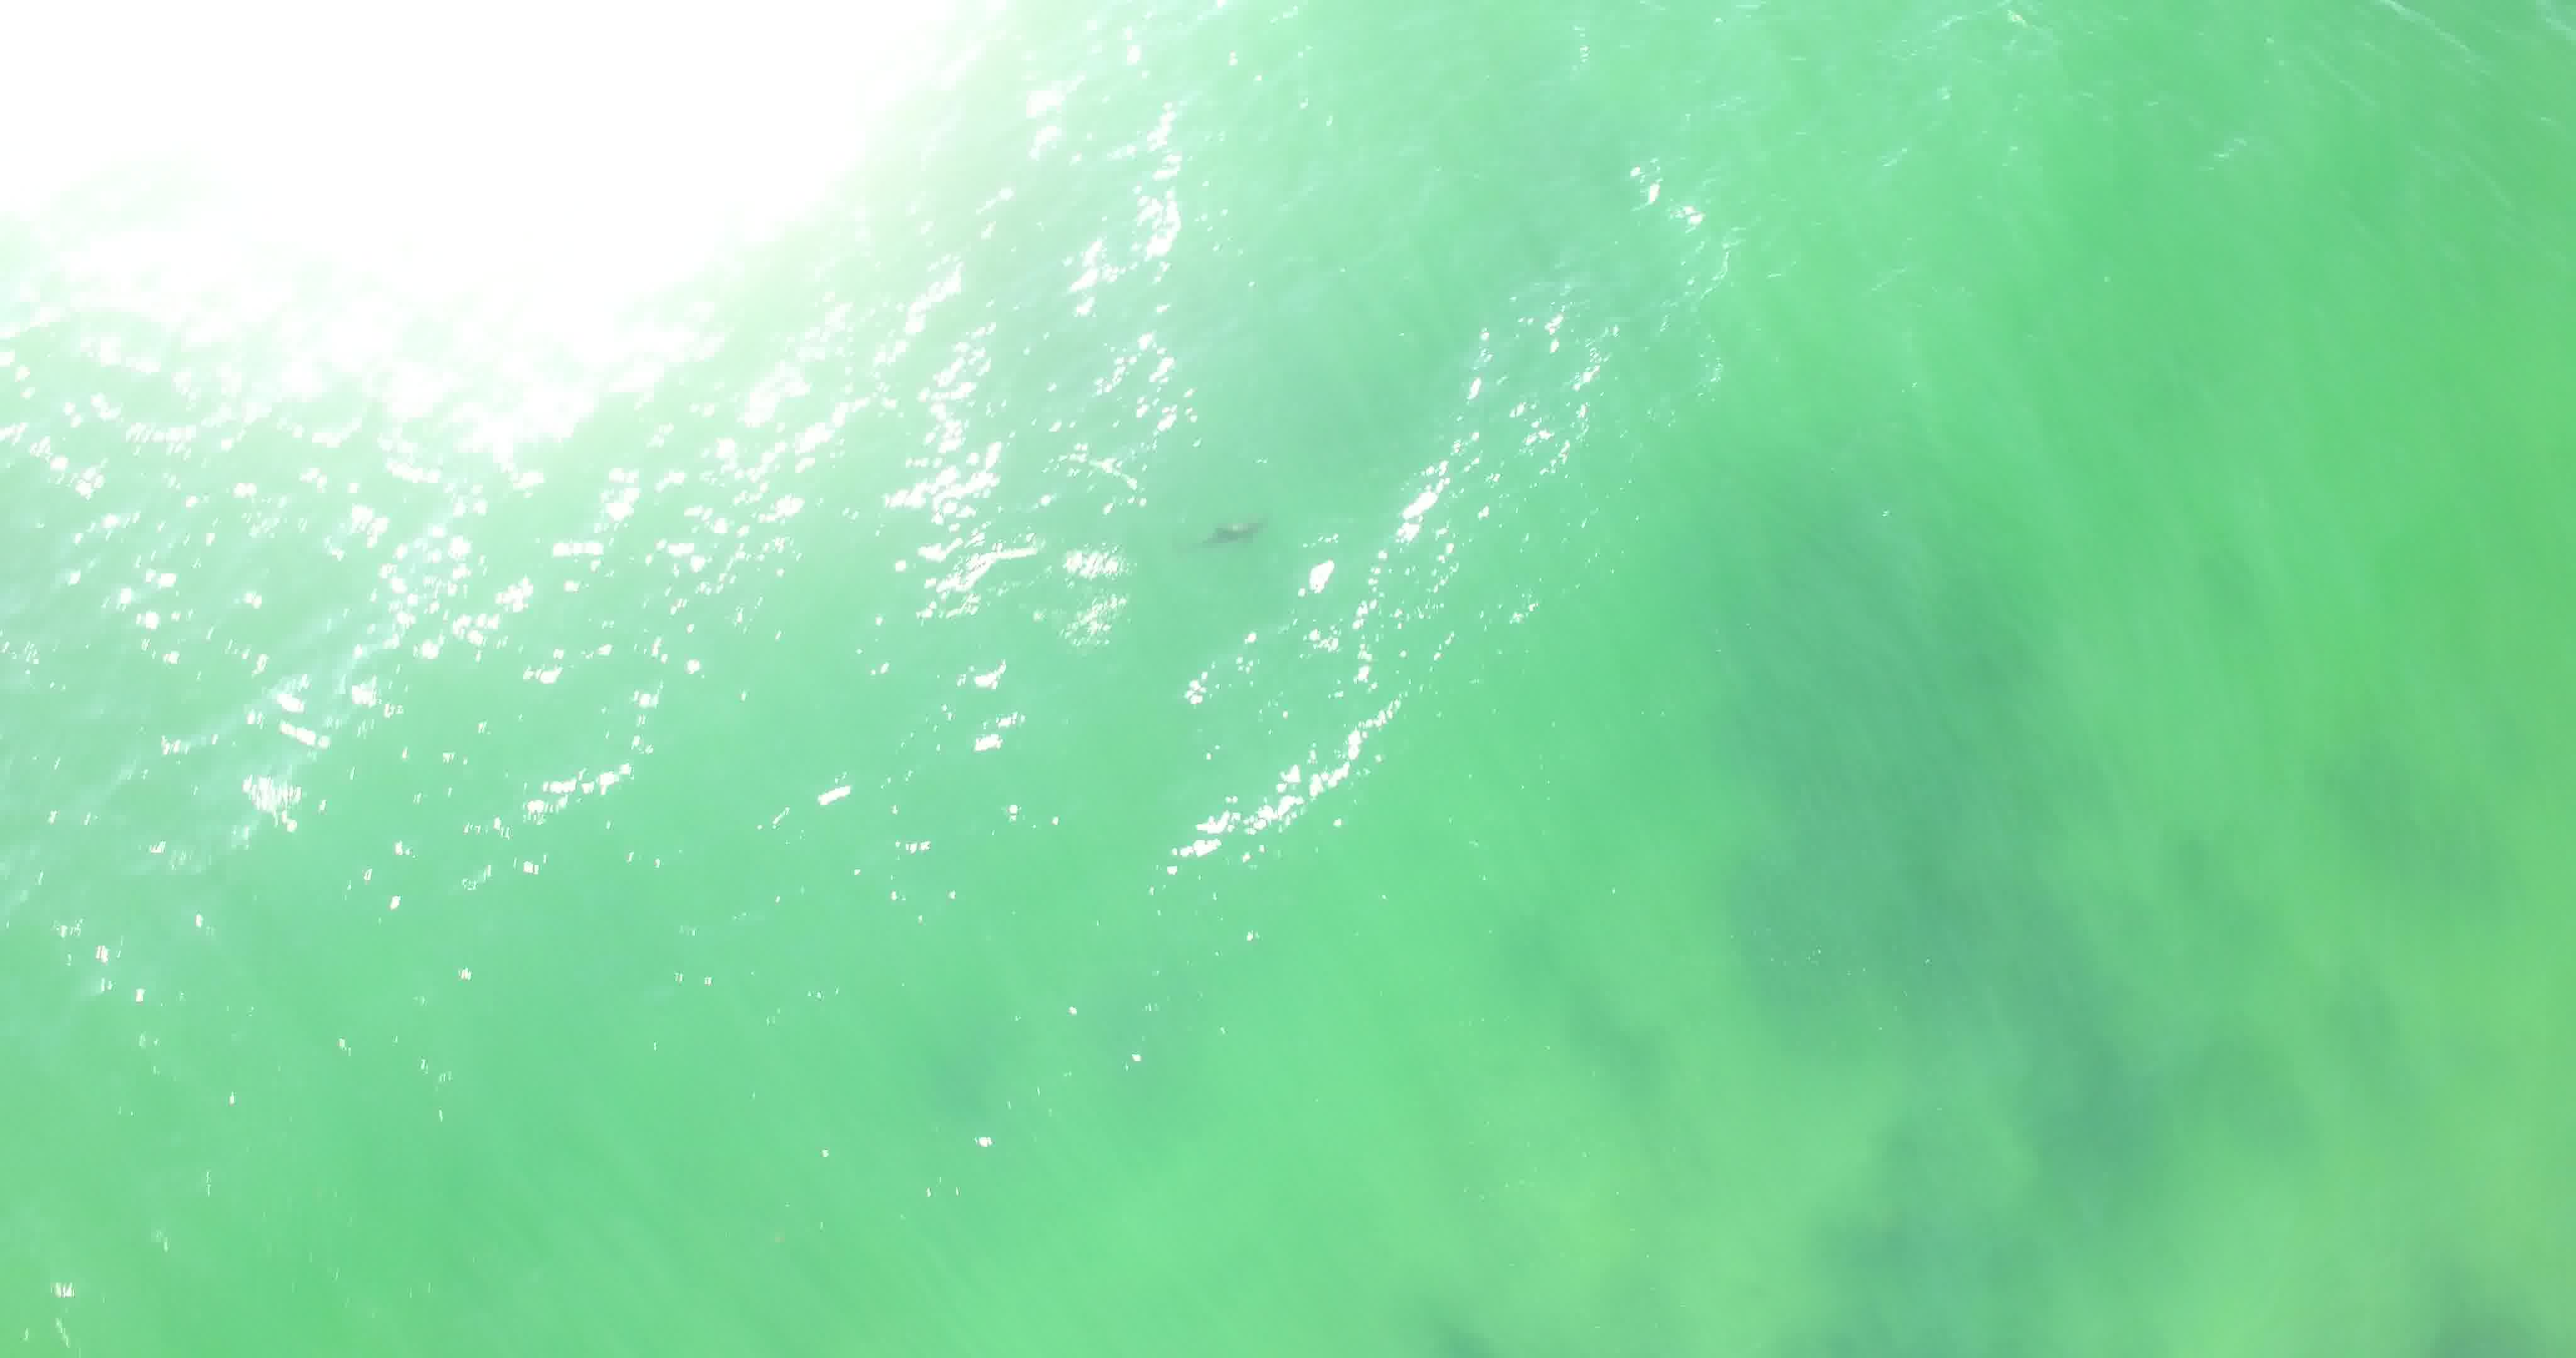dolphin: (1157, 484, 1283, 569)
